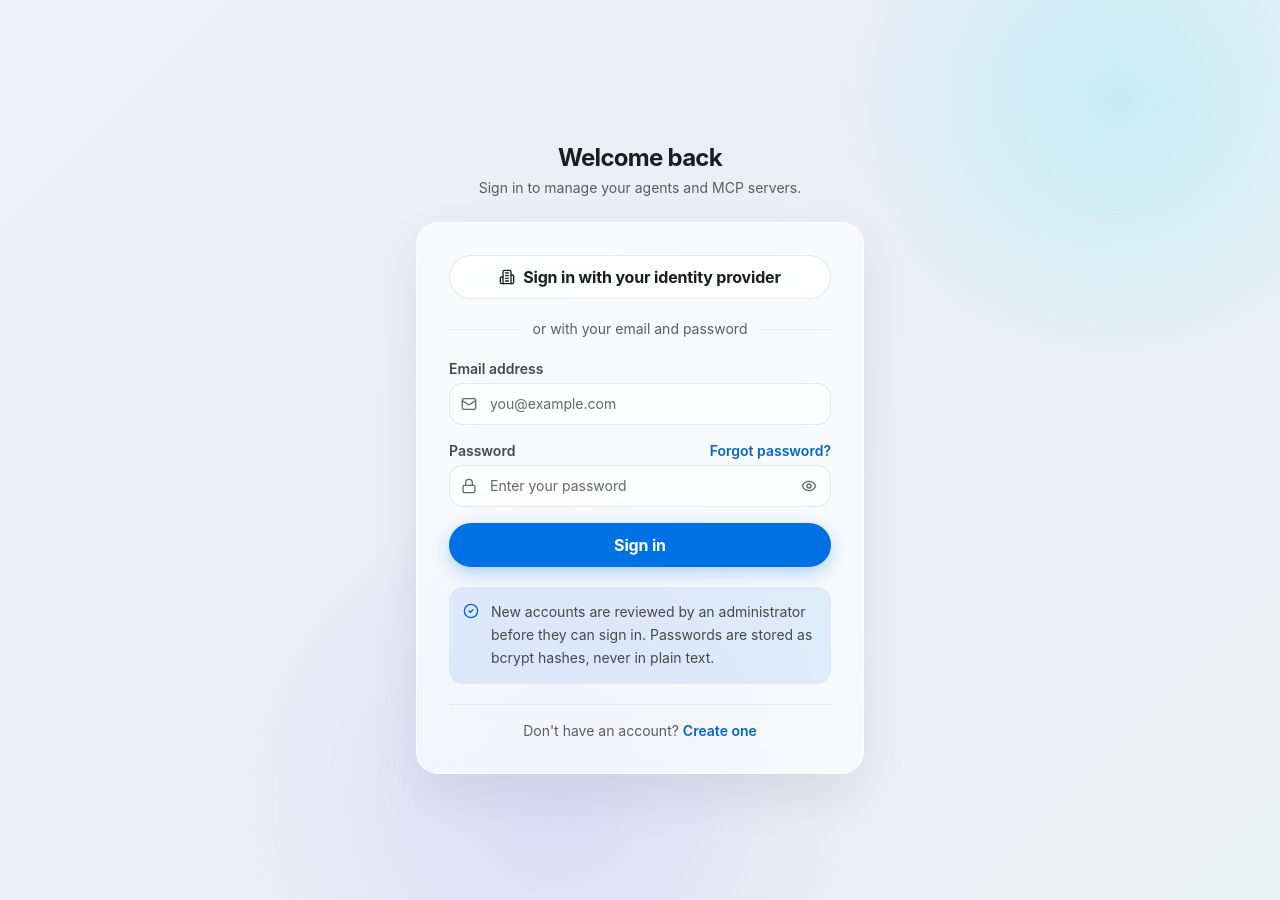
Test case: the sign-in page with an organization's sign-in link › keeps the flow in this tab and sends the browser to the provider
Click the button "Sign in with your identity provider".
click(640, 277)  # box [449,255,831,299]
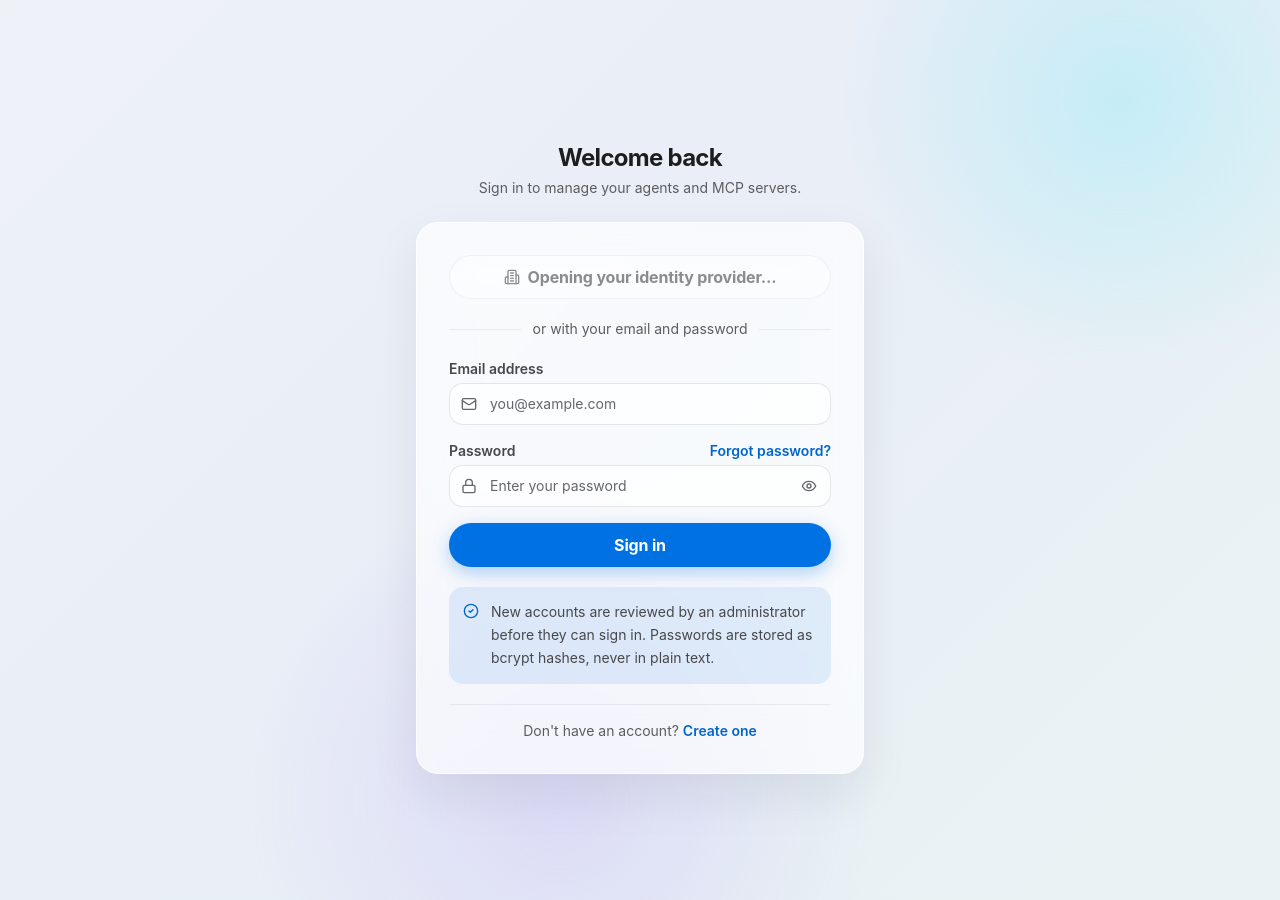
Expected: the button "Sign in" is shown, [449,523,831,567]
Expected: the button "Opening your identity provider..." is disabled, [449,255,831,299]
